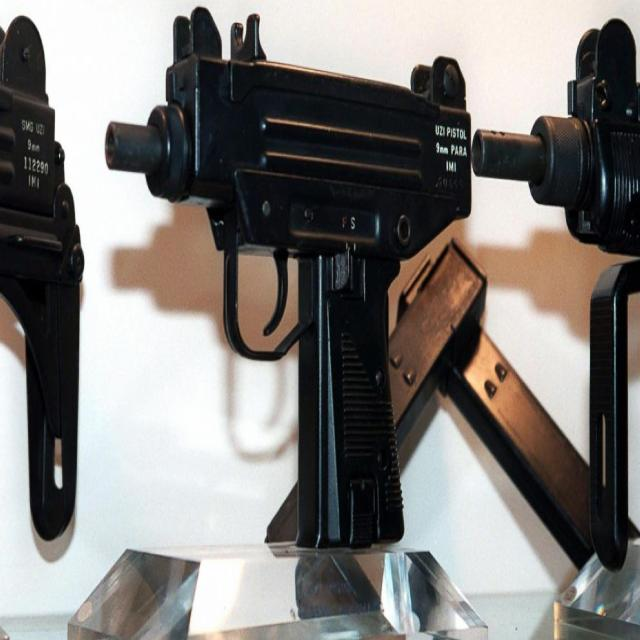SMG: (104, 8, 474, 555)
